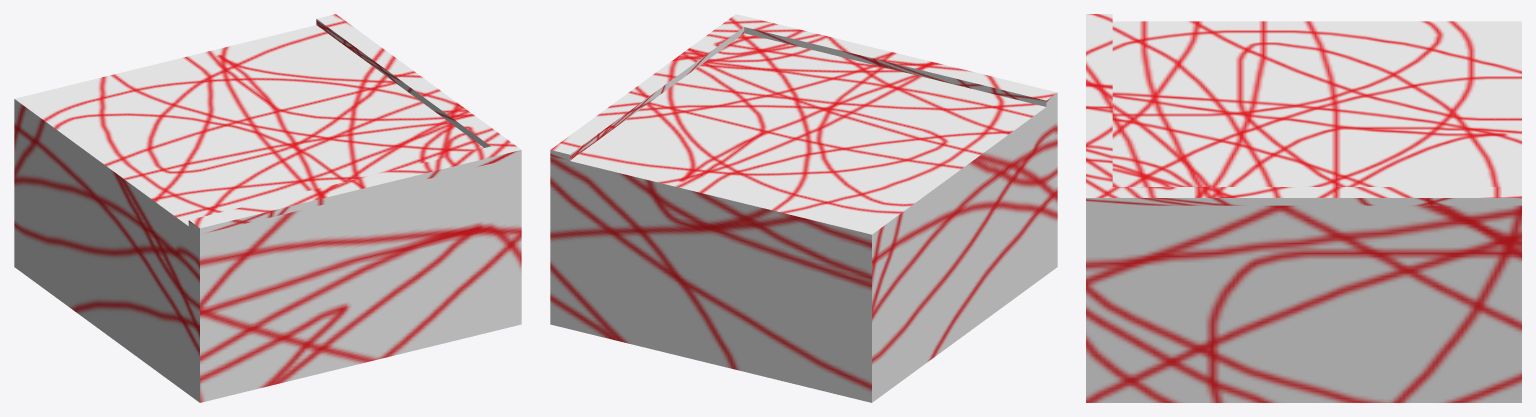
File: 400_Floor_Corner_MES.FBX
The picture shows the model from 3 angles, left to right: view 1: azimuth 30°, elevation 25°; view 2: azimuth 150°, elevation 25°; view 3: azimuth 270°, elevation 25°; orthographic projection. The views are drawn at different scales.
Visible parts, largest first — view 1: 400FloorCorner; view 2: 400FloorCorner; view 3: 400FloorCorner.
Boxes of the visible parts, box(x1,y1,x2,y2) form: 400FloorCorner: box(14, 14, 521, 402); 400FloorCorner: box(550, 14, 1057, 402); 400FloorCorner: box(1086, 14, 1521, 402).
Bounding box in the file's own units: 400 × 208 × 400.
